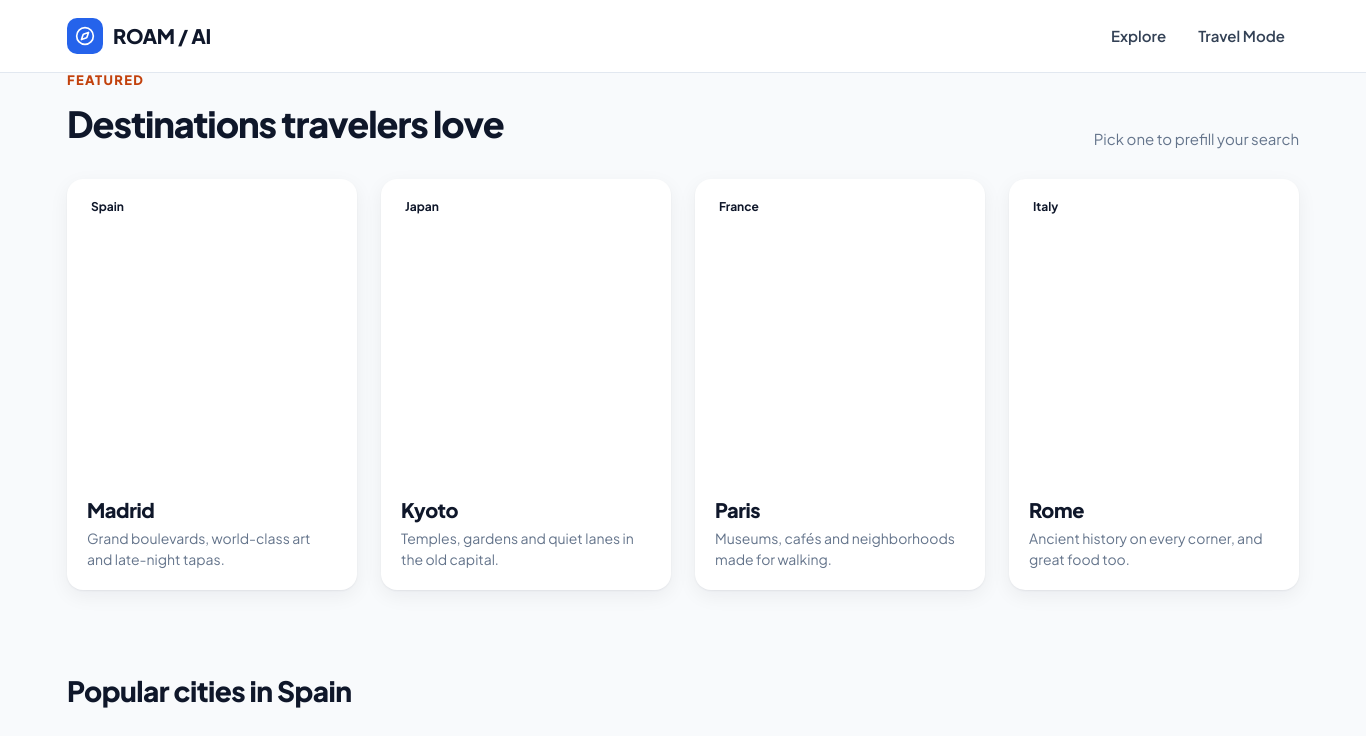
Test: HomePage › prefills the search from a featured destination
The width and height of the screenshot is (1366, 736).
(page scrolled)
Click the button with aria-label "Kyoto, Japan": x=422, y=206 [381,179,671,590]
(page scrolled)
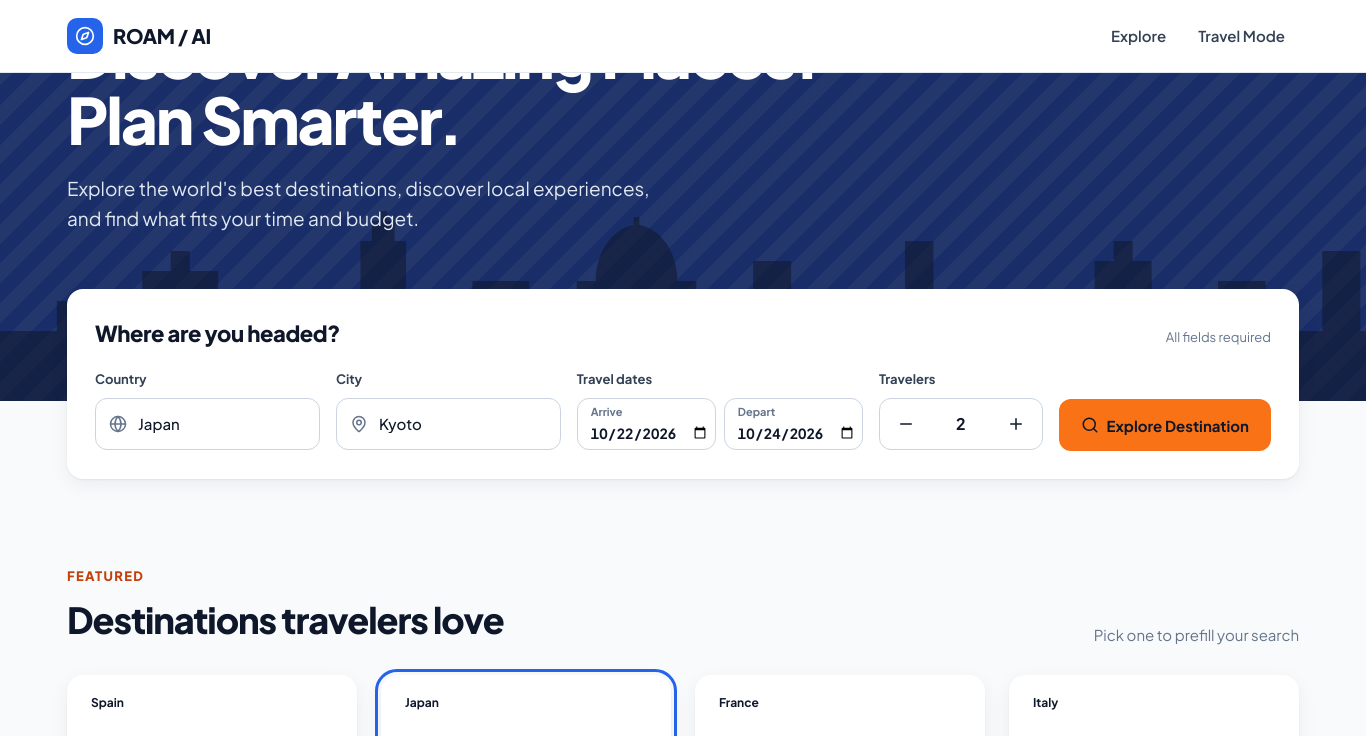
Now the dropdown labelled "Country" holds "Japan", box [95,398,320,450]
Now the dropdown labelled "City" holds "Kyoto", box [336,398,561,450]
